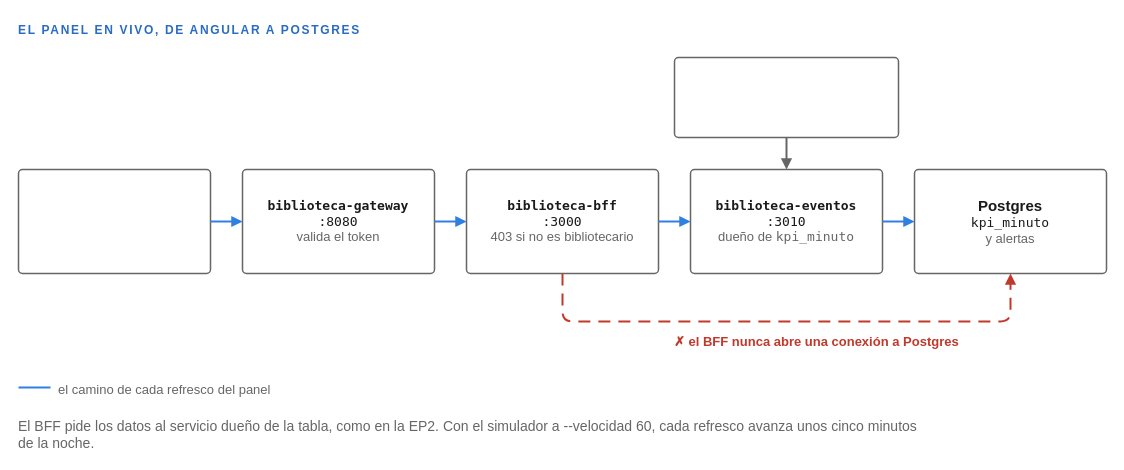
Some shapes in this 1124 by 470 pixel diagram are drawn without their labels. Here are the shapes that lost their labels. From the top down, the centre of each, then its label:
At [786,97]: "biblioteca.lecturas biblioteca.prestamos grupo biblioteca-panel".
At [114,221]: "biblioteca-web /panel , cada 5 s GET /v1/panel/en-vivo".
